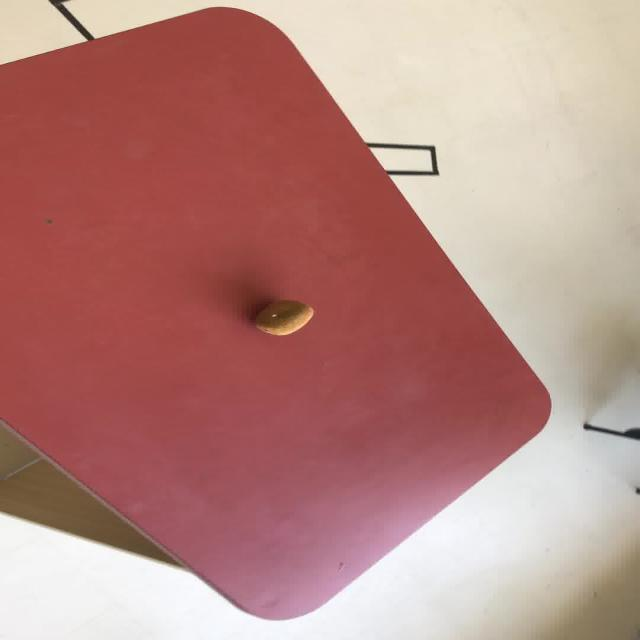kiwi: (2, 4, 553, 621), (252, 299, 313, 336)
